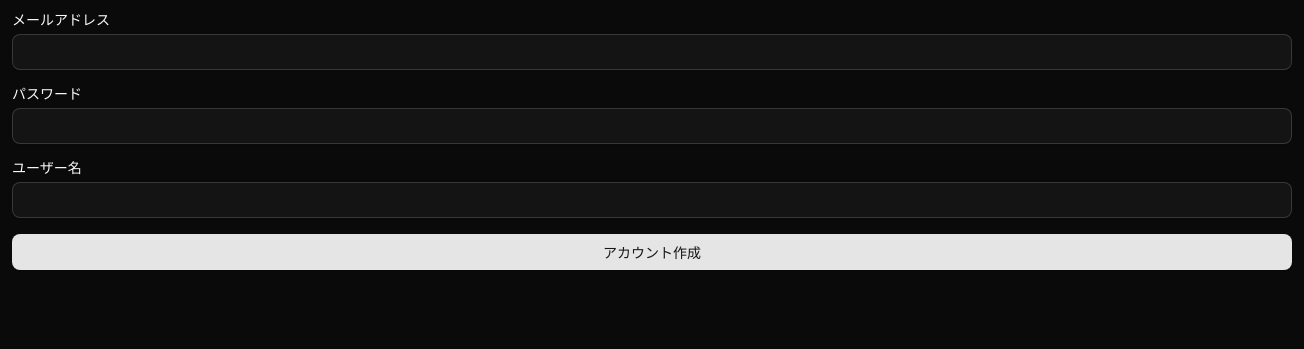
Test: SignupForm › displays error message when signup fails
Type "dj@example.com" into the field labelled "メールアドレス" at (652, 52), box [12,34,1292,70]
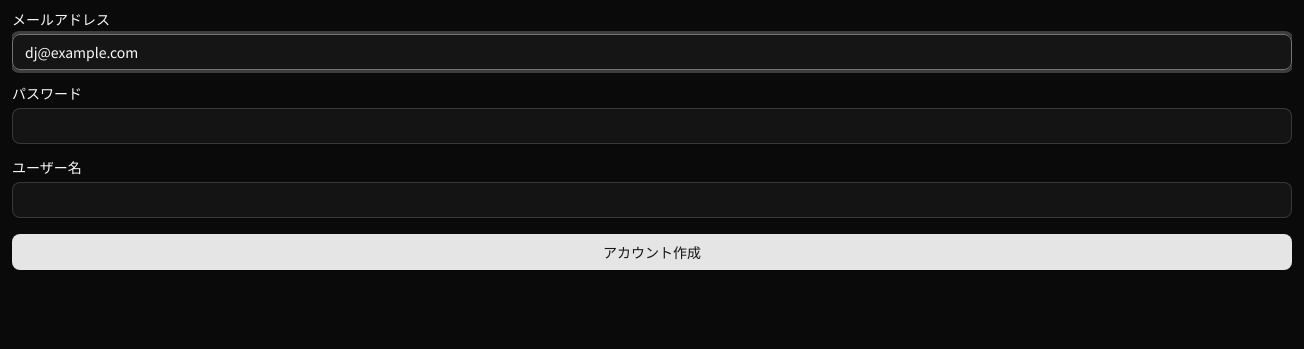
Type "P@ssw0rd123" into the password field labelled "パスワード" at (652, 126), box [12,108,1292,144]
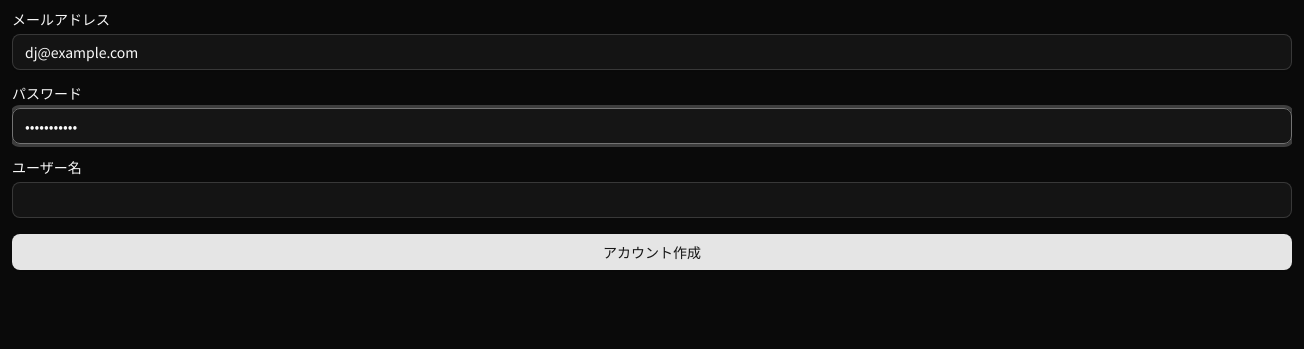
Type "DJName" into the field labelled "ユーザー名" at (652, 200), box [12,182,1292,218]
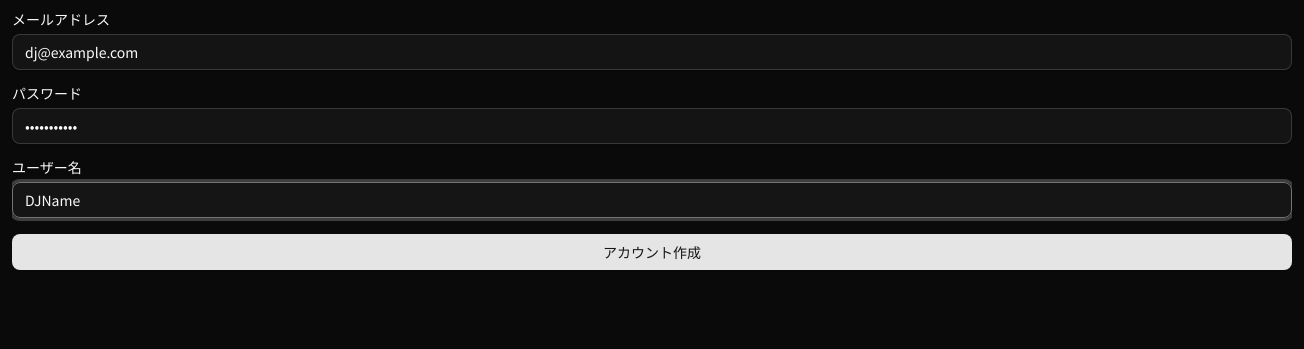
Click the button "アカウント作成" at (652, 252), box [12,234,1292,270]
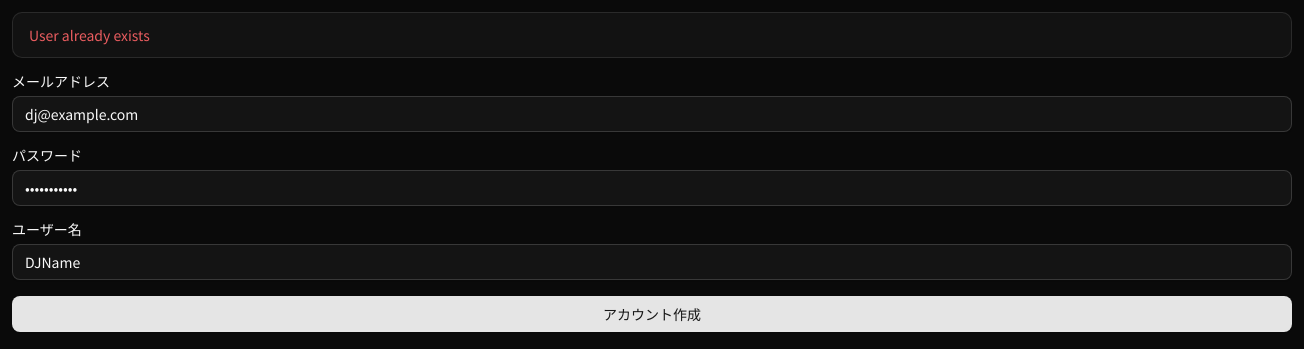
Expected: the message reads "User already exists", [29,25,150,45]
